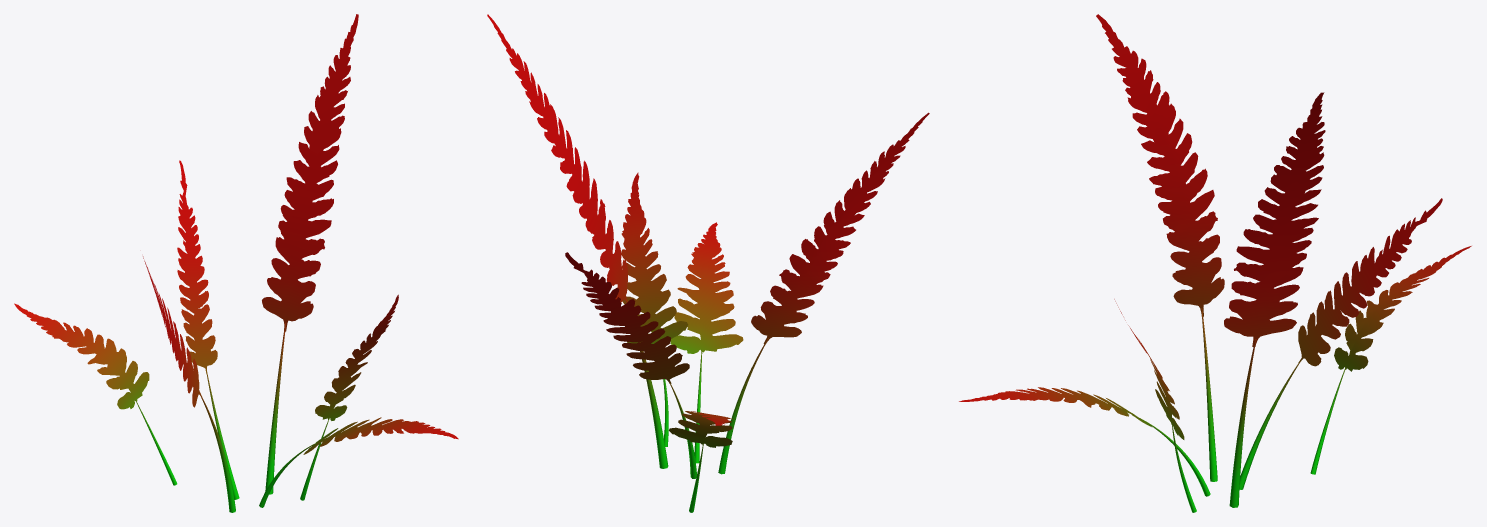
The model's file is Silvery Glade Fern_LOD0_Var2_xf5lebcqx.fbx.
3 views of the same model, side by side, from view 1: azimuth 30°, elevation 25°; view 2: azimuth 150°, elevation 25°; view 3: azimuth 270°, elevation 25° (orthographic). The views are drawn at different scales.
Parts seen in each view (by area): view 1: _fhz8_Var2_LOD0; view 2: _fhz8_Var2_LOD0; view 3: _fhz8_Var2_LOD0.
Boxes of the visible parts, x1,y1,x2,y2 form: _fhz8_Var2_LOD0: [14, 14, 458, 512]; _fhz8_Var2_LOD0: [487, 14, 929, 512]; _fhz8_Var2_LOD0: [959, 14, 1471, 512].
Bounding box in the file's own units: 11.81 × 15.11 × 14.45.
